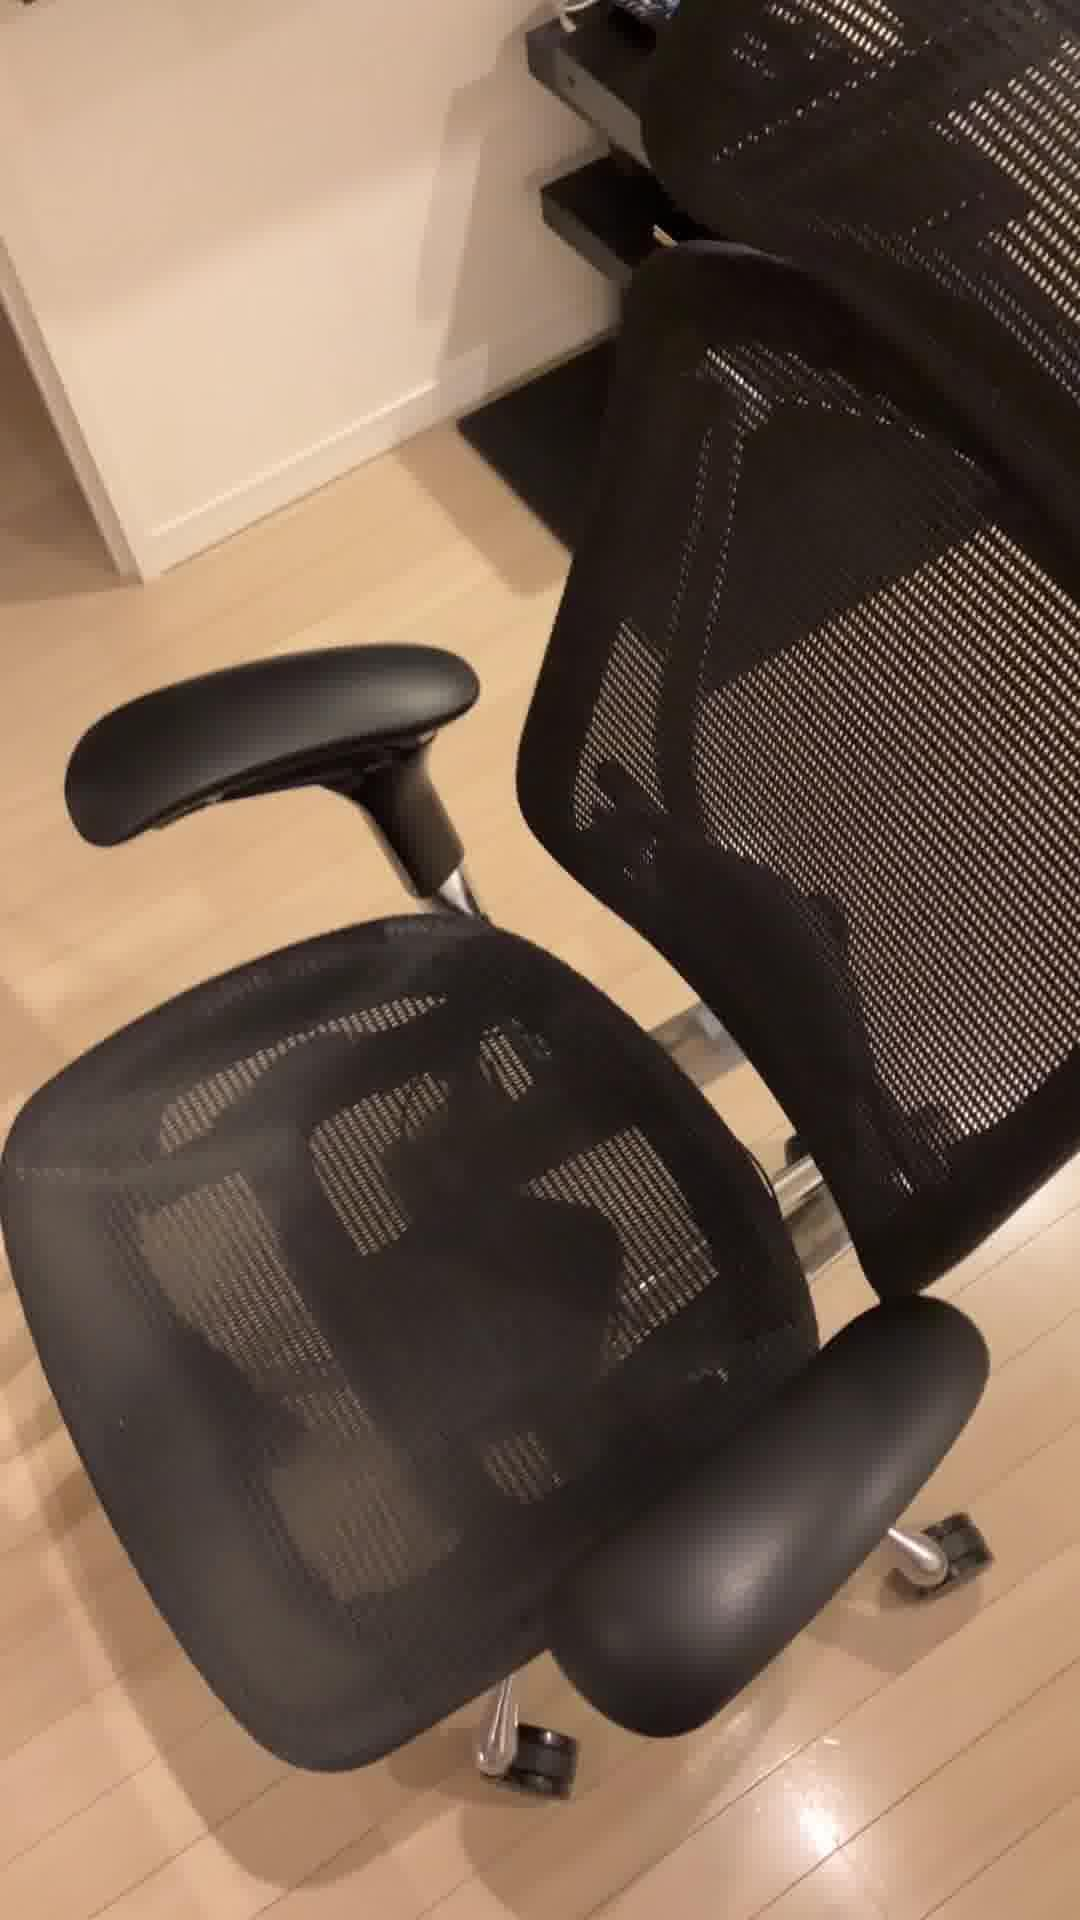okamura-contessa: (0, 0, 1080, 1817)
